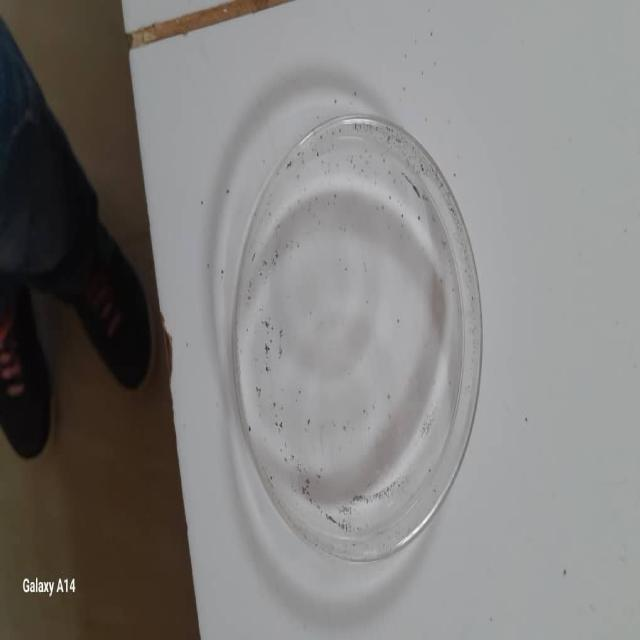Pedrish: (232, 120, 483, 566)
